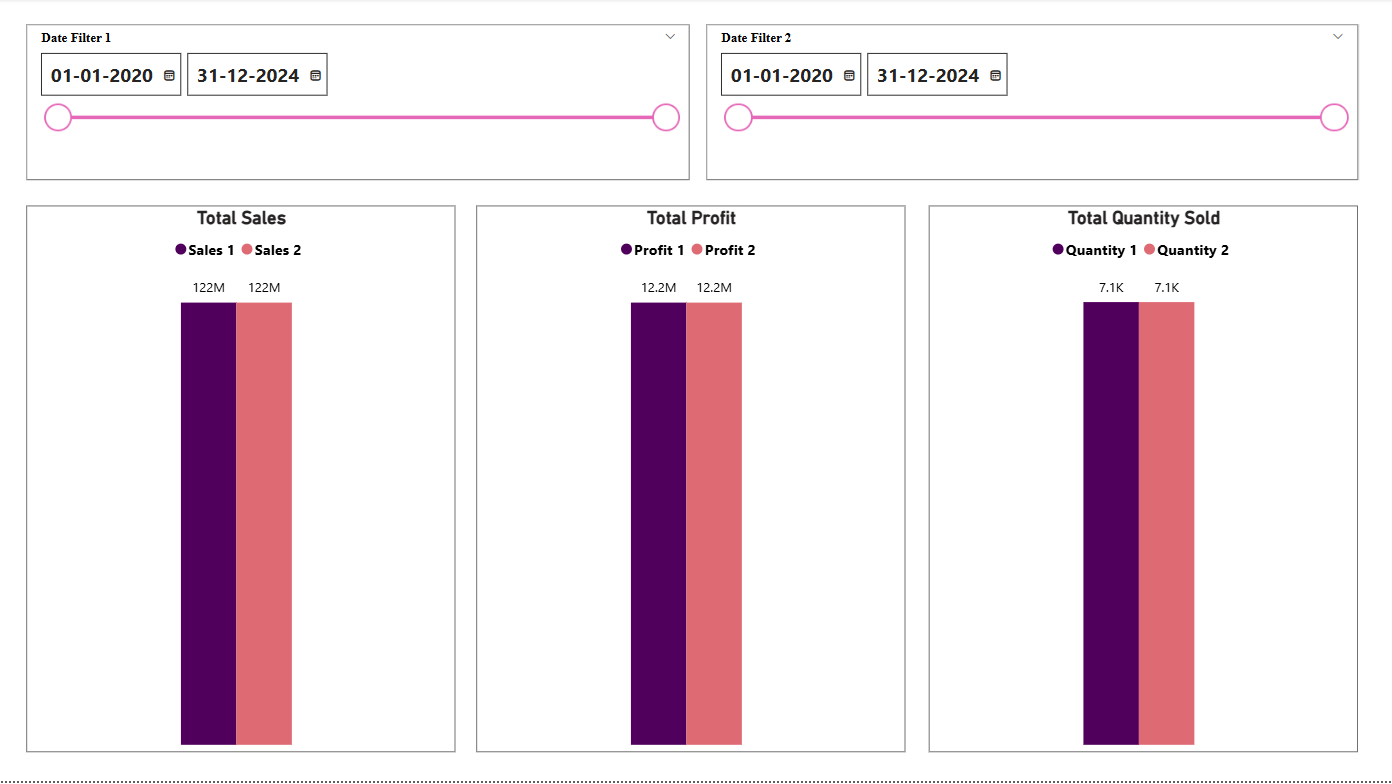

Layout of this report page (visuals, bound fields, positions):
{"tool":"powerbi","page":{"name":"Comparison Sales/Profit/Quantity","canvas":[1280,720],"ordinal":2},"visuals":[{"type":"slicer","fields":{"Values":["Date Table 1.Date"]},"box":[24.6,24.6,609.9,142.9],"z":0},{"type":"slicer","fields":{"Values":["Date Table 2.Date"]},"box":[649.4,24.6,598.8,142.9],"z":1000},{"type":"clusteredColumnChart","title":"Total Sales","fields":{"Y":["Sum(Fact Table.Net Sales  )","Date Table 1.Sum of Net Sales"]},"box":[24.6,191,394.3,502.7],"z":2000},{"type":"clusteredColumnChart","title":"Total Profit","fields":{"Y":["Sum(Fact Table.Profit)","Measures Table.Total Profit"]},"box":[437.4,191,394.3,502.7],"z":3000},{"type":"clusteredColumnChart","title":"Total Quantity Sold","fields":{"Y":["Sum(Fact Table.Units Sold)","Measures Table.Quantity Sold"]},"box":[853.9,191,394.3,502.7],"z":4000}]}

Visuals, with their boxes in screenshot pixels (x1, y1, x2, y2), scaled from the page's 1280x720 canvas onto the 1392x784 screenshot:
slicer - Date Table 1.Date: BBox(27, 27, 690, 182)
slicer - Date Table 2.Date: BBox(706, 27, 1357, 182)
"Total Sales" clusteredColumnChart: BBox(27, 208, 456, 755)
"Total Profit" clusteredColumnChart: BBox(476, 208, 904, 755)
"Total Quantity Sold" clusteredColumnChart: BBox(929, 208, 1357, 755)
